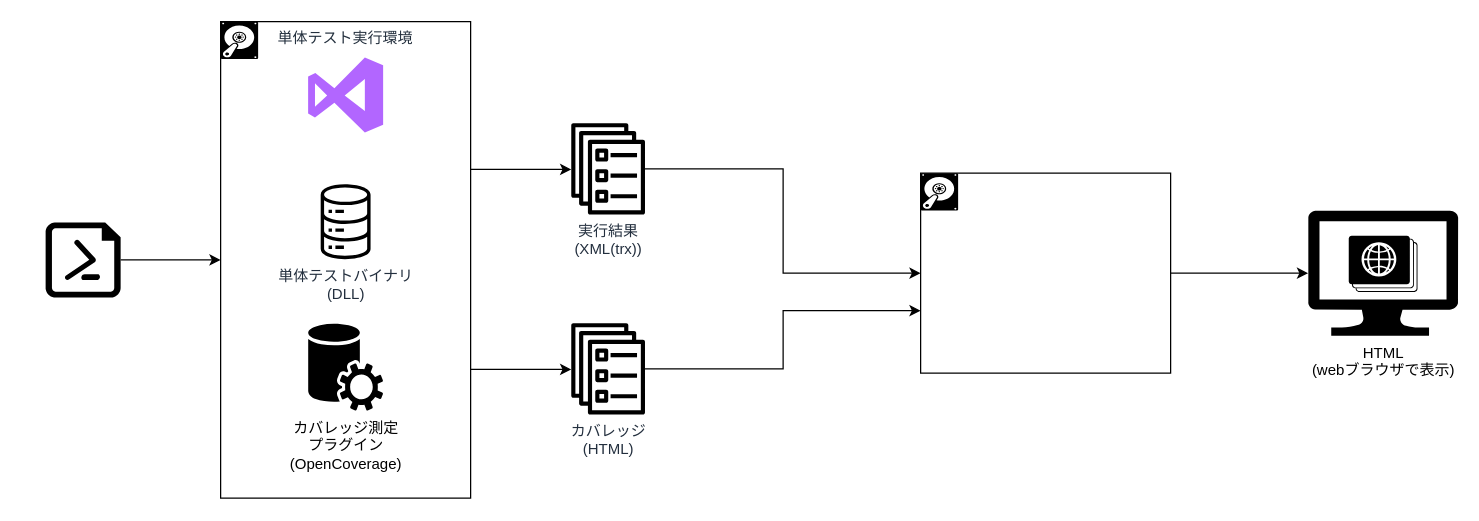
Image size: 1479x521. Some labels were removed from this diagram. The shapes that lost their labels are listed below. From the top down, each one's box as (x1, y1, x2, y2) in pixels, then its label:
(308, 57, 382, 132): VisualStudio (付属の単体テスト実行ツール)
(45, 222, 120, 297): 自動実行環境のI/F (batファイル)
(919, 172, 1171, 373): レポート生成
